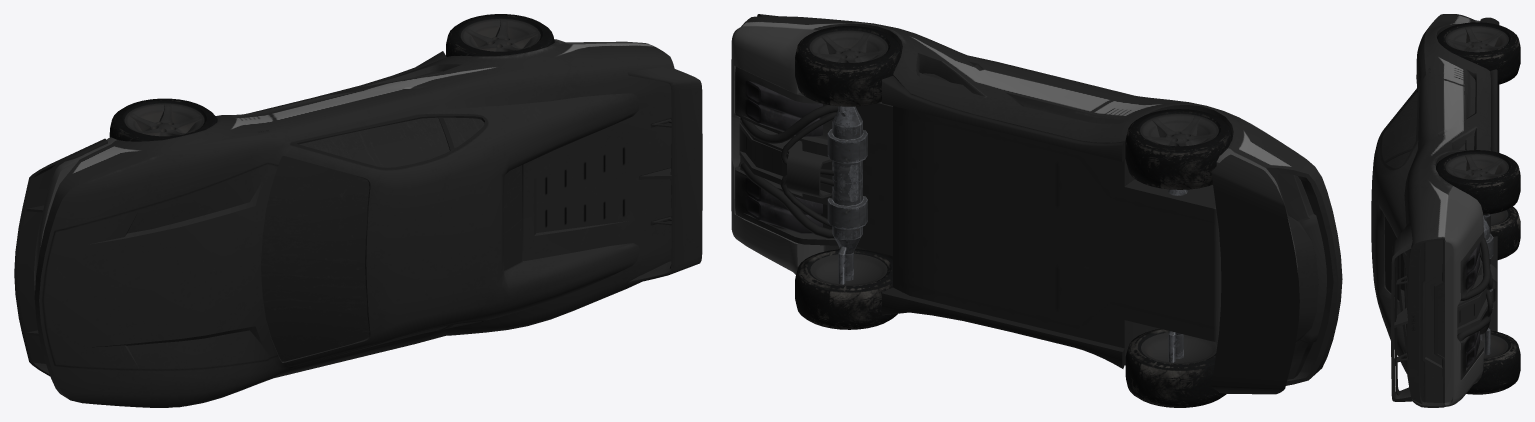
The model's file is newCar.obj.
3 views of the same model, side by side, from view 1: azimuth 30°, elevation 25°; view 2: azimuth 150°, elevation 25°; view 3: azimuth 270°, elevation 25° (orthographic). The views are drawn at different scales.
Parts seen in each view (by area): view 1: cb_car_export; view 2: cb_car_export; view 3: cb_car_export.
Part boxes in pixels (<box>): cb_car_export: <box>14,14,702,407</box>; cb_car_export: <box>731,14,1342,407</box>; cb_car_export: <box>1371,14,1520,407</box>.
Bounding box in the file's own units: 135 × 55.65 × 35.13.
Materials: 1 (1 with a texture image).
